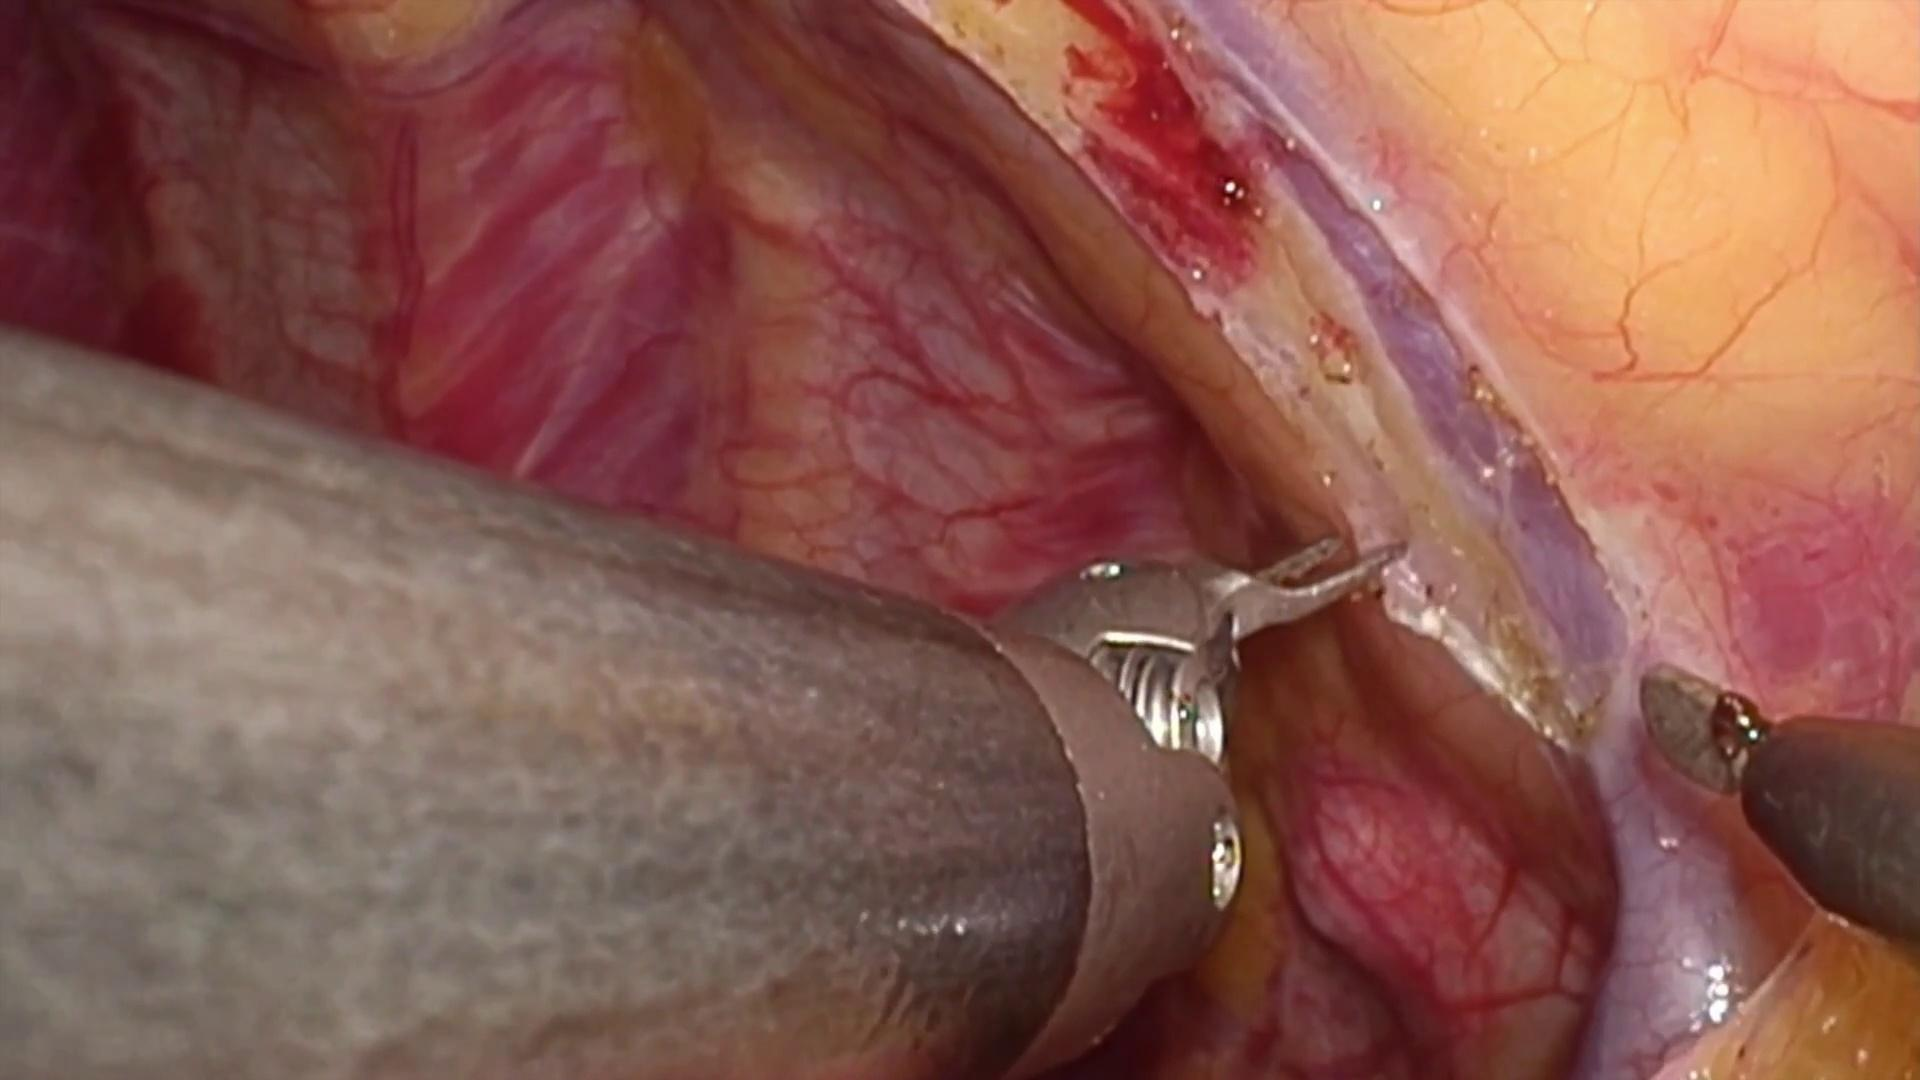Cautery_Spatula: (1640, 657, 1920, 965)
Debakey: (1189, 518, 1408, 665)
